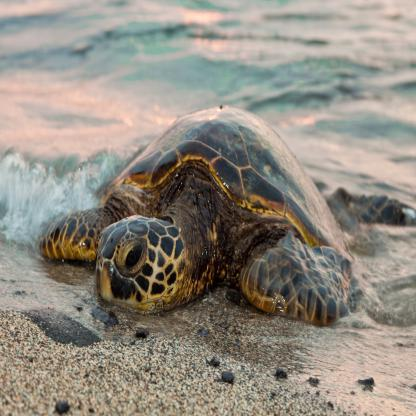turtle: (94, 203, 194, 320)
